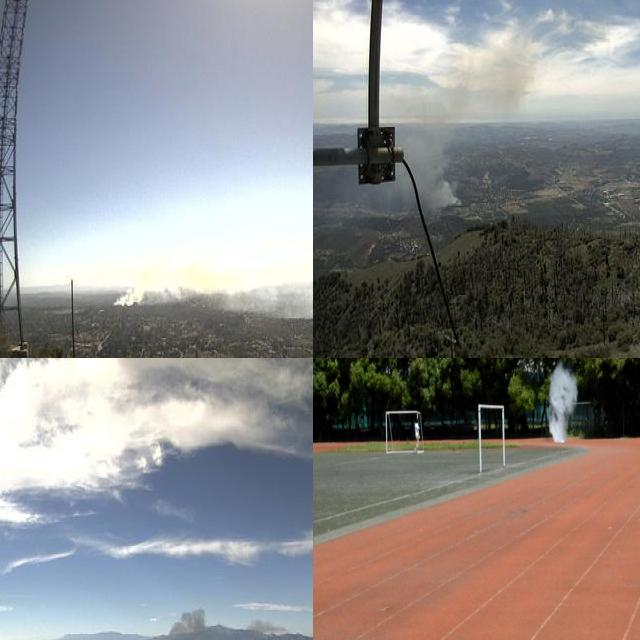smoke: (400, 54, 525, 208), (112, 254, 313, 326), (121, 601, 208, 640), (545, 361, 579, 444)
